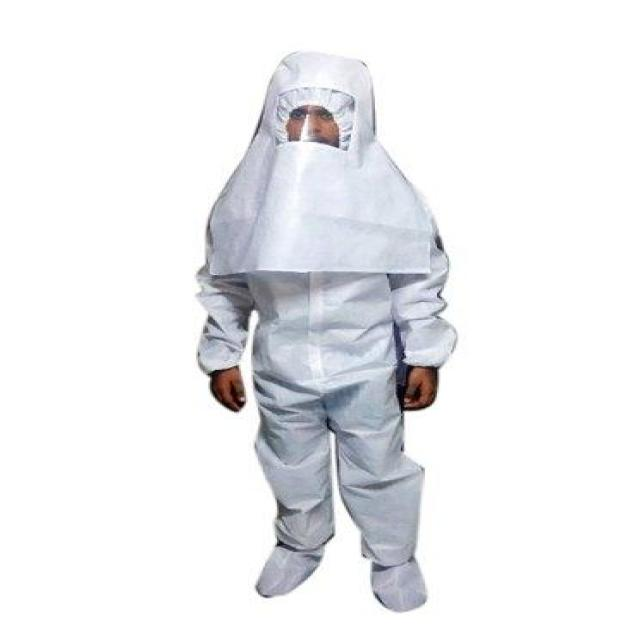Coverall: (189, 46, 477, 617)
